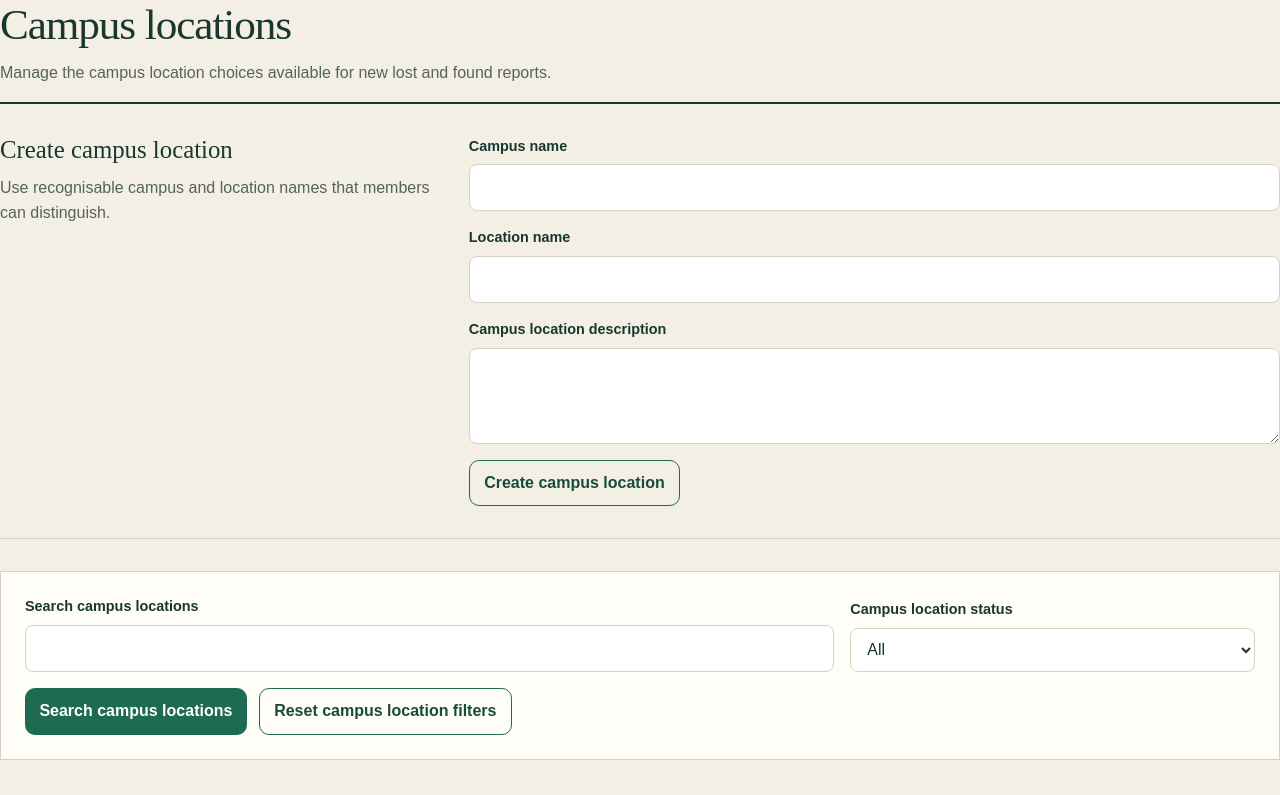
Scenario: validates campus location creation locally
Step 1. Type "x" into the field labelled "Campus name" → (874, 188), box [469,164,1279,211]
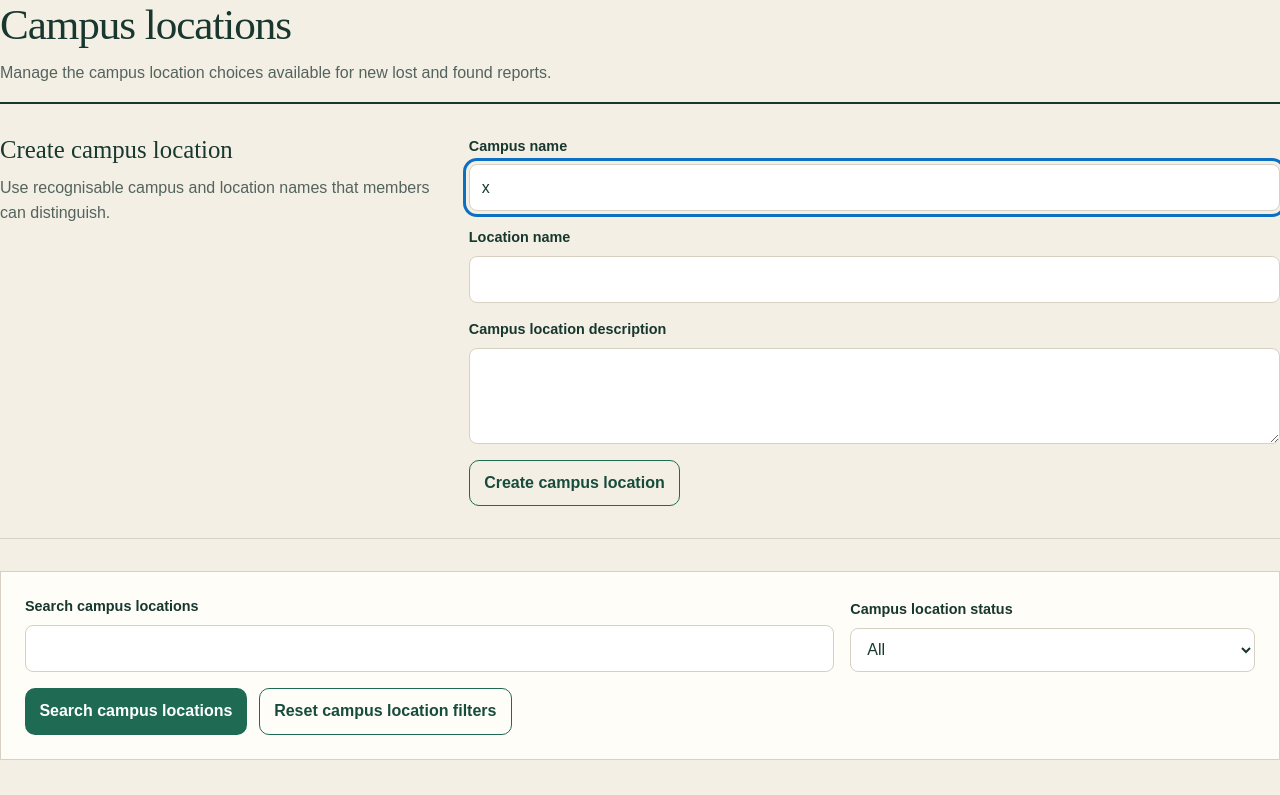
Step 2. Type "x" into the field labelled "Location name" → (874, 279), box [469,256,1279,303]
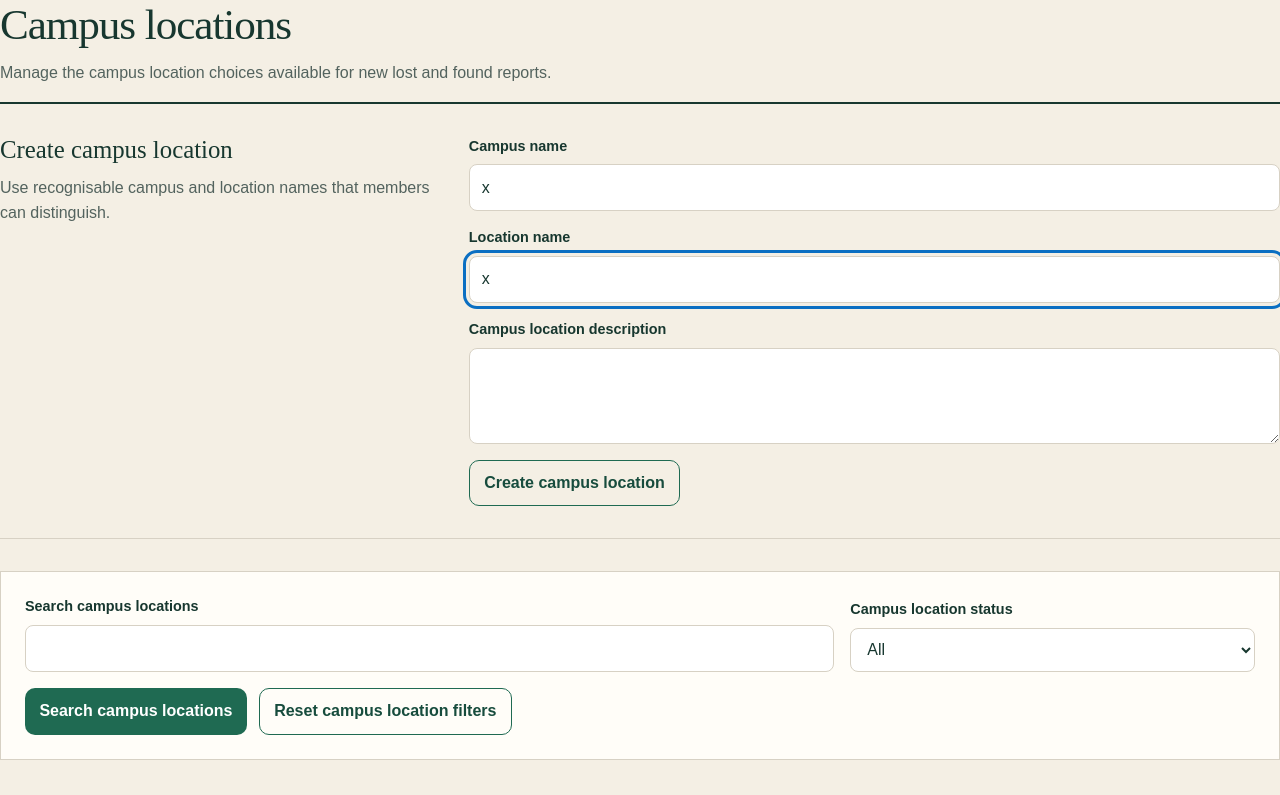
Step 3. Click the button "Create campus location" → (574, 483), box [469,460,680,506]
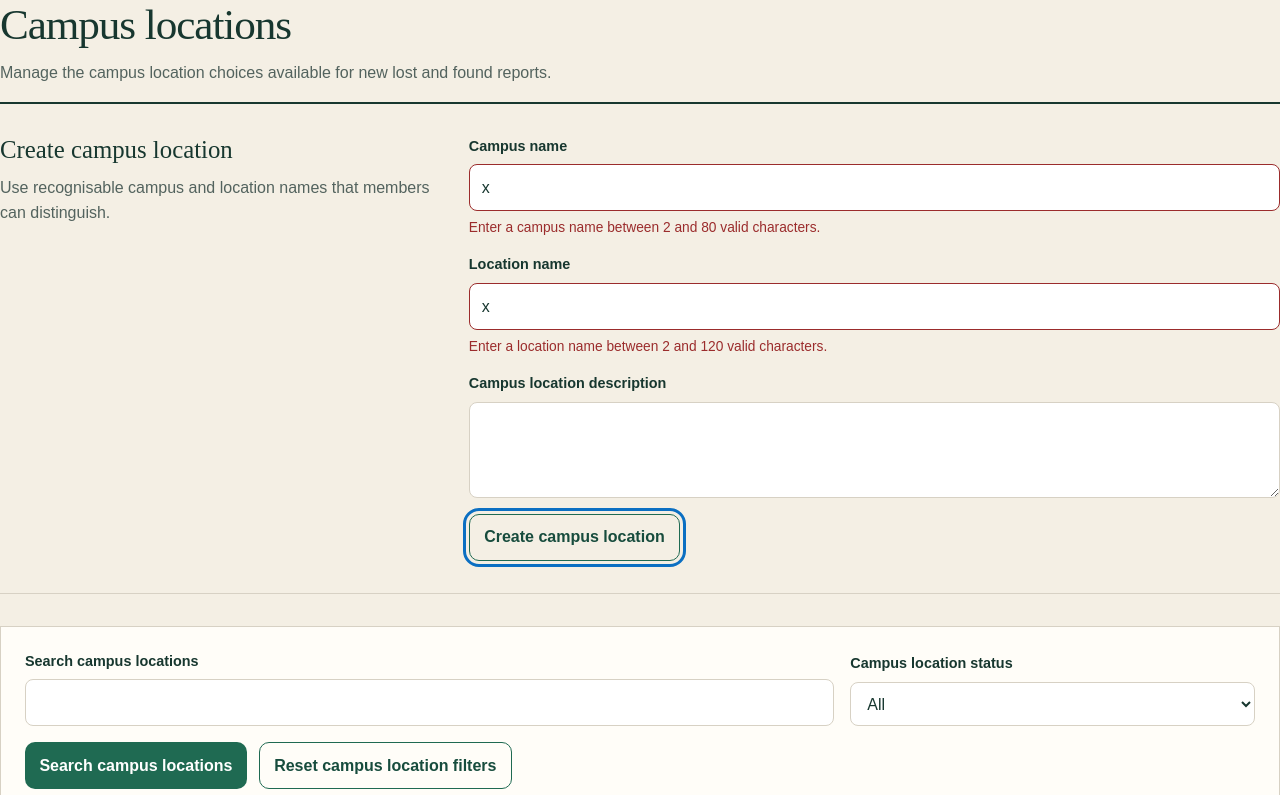
Expected: the text "Enter a campus name between 2 and 80 valid characters." is shown, [469,220,820,235]
Expected: the text "Enter a location name between 2 and 120 valid characters." is shown, [469,339,827,354]
